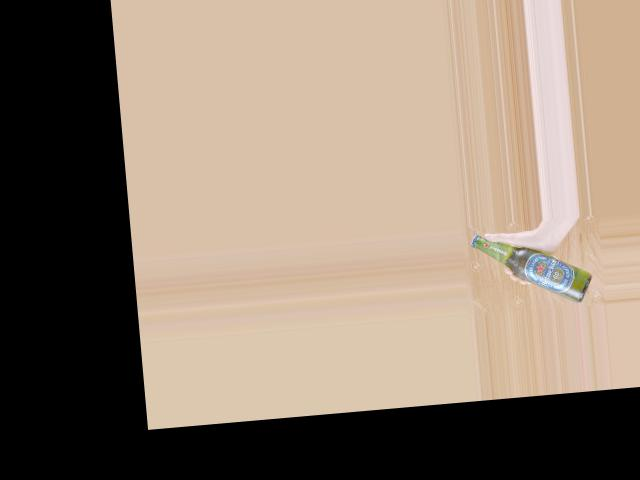beer: (469, 225, 594, 311)
